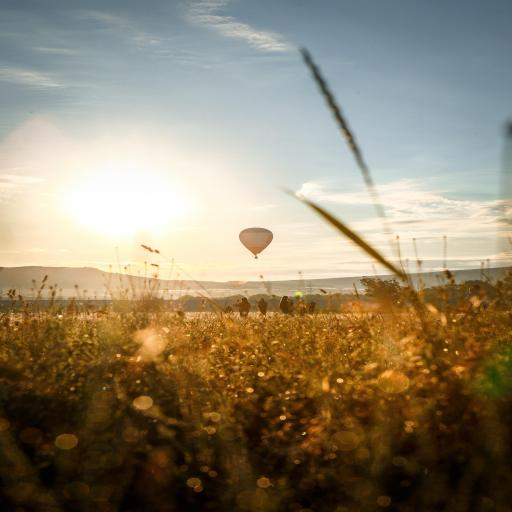hot air ballon: (239, 227, 273, 259)
